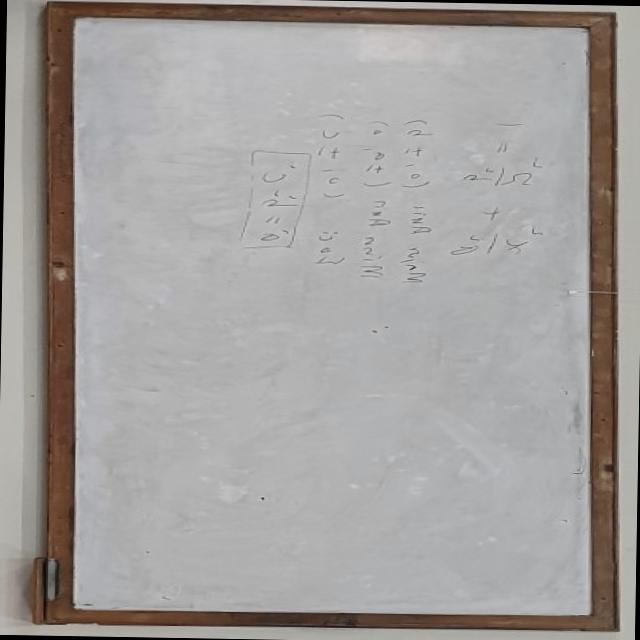White-board: (51, 12, 605, 622)
